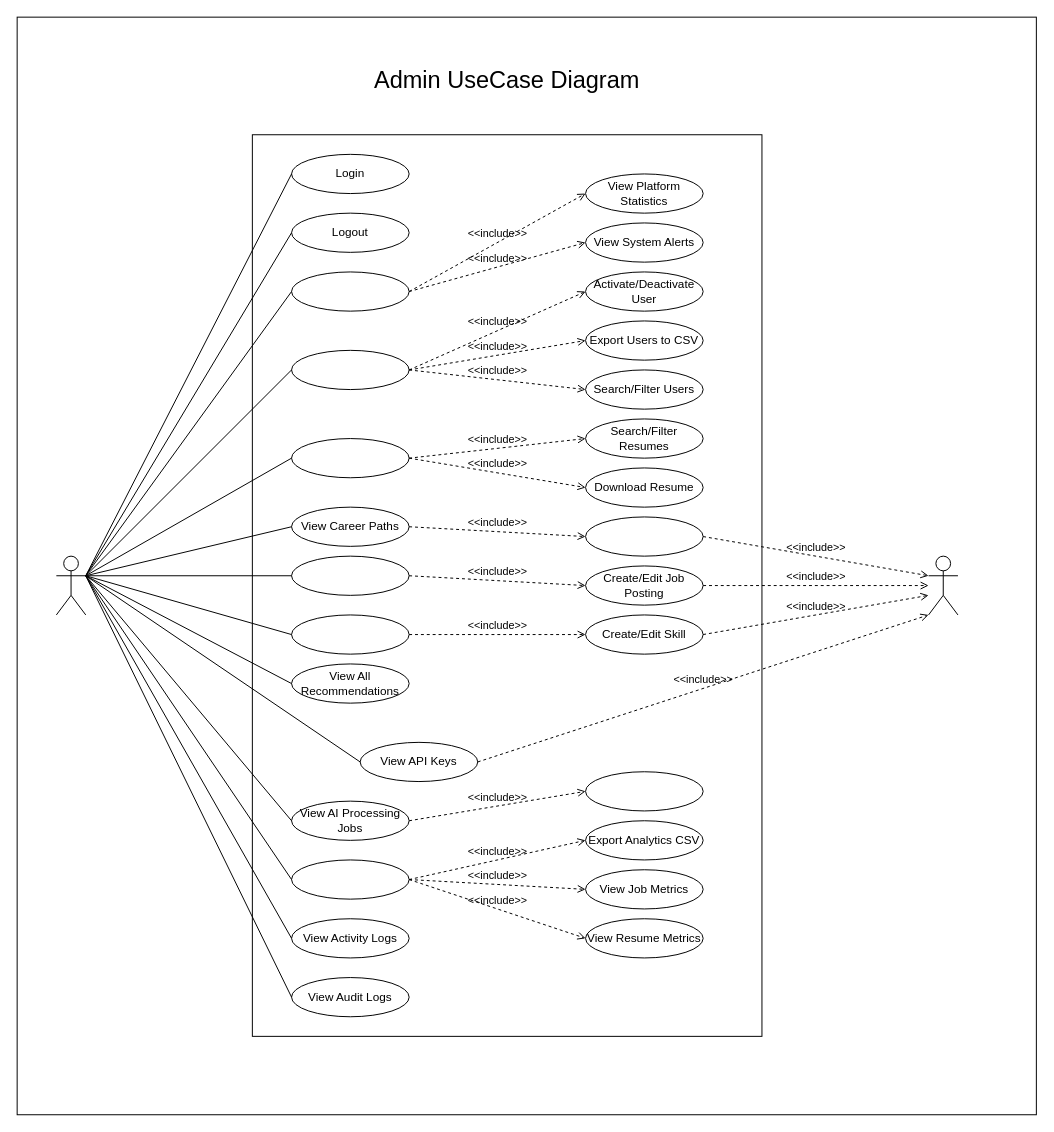
Some shapes in this 1054 by 1132 pixel diagram are drawn without their labels. The centre of each missing label's shape, as x and y in pixels:
"Admin" belongs at point (70, 585).
"AI Processor" belongs at point (943, 585).
"Create/Edit Career Path" belongs at point (644, 536).
"Monitor Processing Queue" belongs at point (644, 791).
"View Admin Dashboard" belongs at point (350, 291).
"View All Resumes" belongs at point (350, 458).
"View All Users" belongs at point (350, 369).
"View Analytics Dashboard" belongs at point (350, 879).
"View Job Postings" belongs at point (350, 575).
"View Skills" belongs at point (350, 634).
